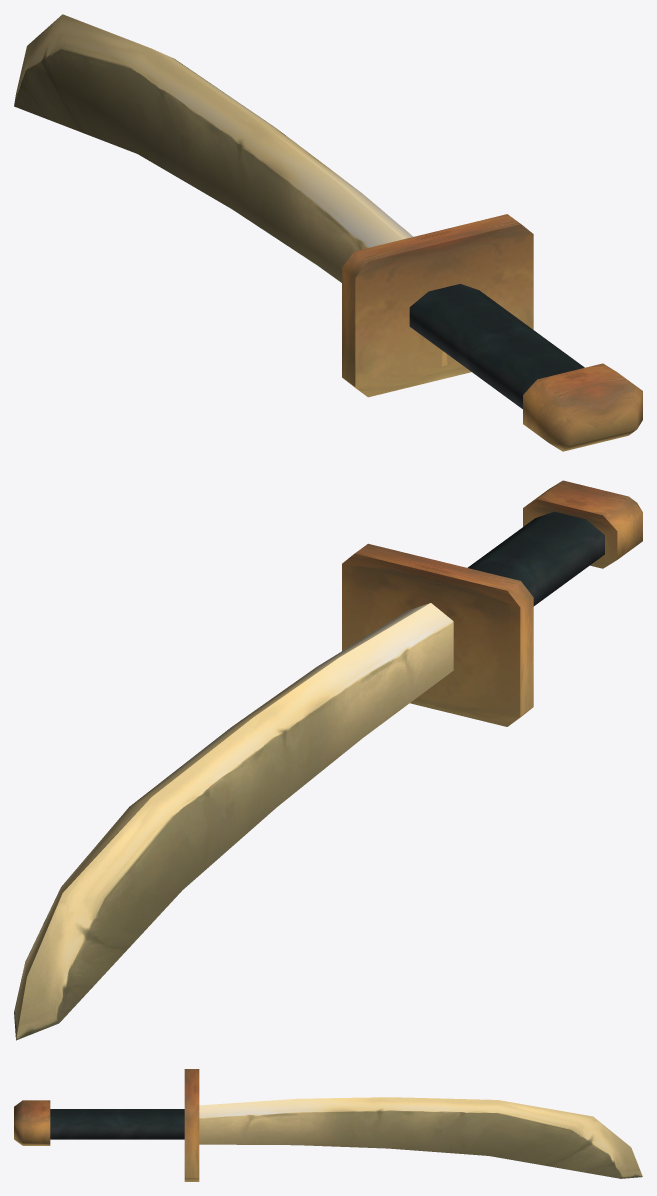
Rendered from cutter_gold.dae.
The picture shows the model from 3 angles, top to bottom: view 1: azimuth 30°, elevation 25°; view 2: azimuth 150°, elevation 25°; view 3: azimuth 270°, elevation 25°; orthographic projection. The views are drawn at different scales.
Parts seen in each view (by area): view 1: cutter001; view 2: cutter001; view 3: cutter001.
Boxes of the visible parts, left/top/right/bottom form: cutter001: left=14, top=14, right=642, bottom=451; cutter001: left=14, top=480, right=642, bottom=1040; cutter001: left=14, top=1069, right=642, bottom=1181.
Bounding box in the file's own units: 14.94 × 85.36 × 13.18.
1 material, 1 textured.
